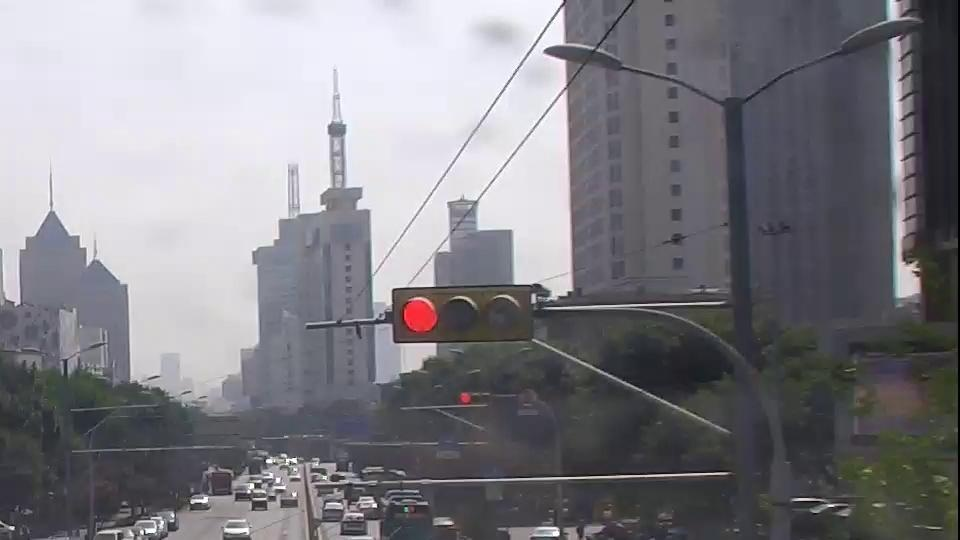red: (390, 292, 441, 336), (451, 384, 486, 413)
